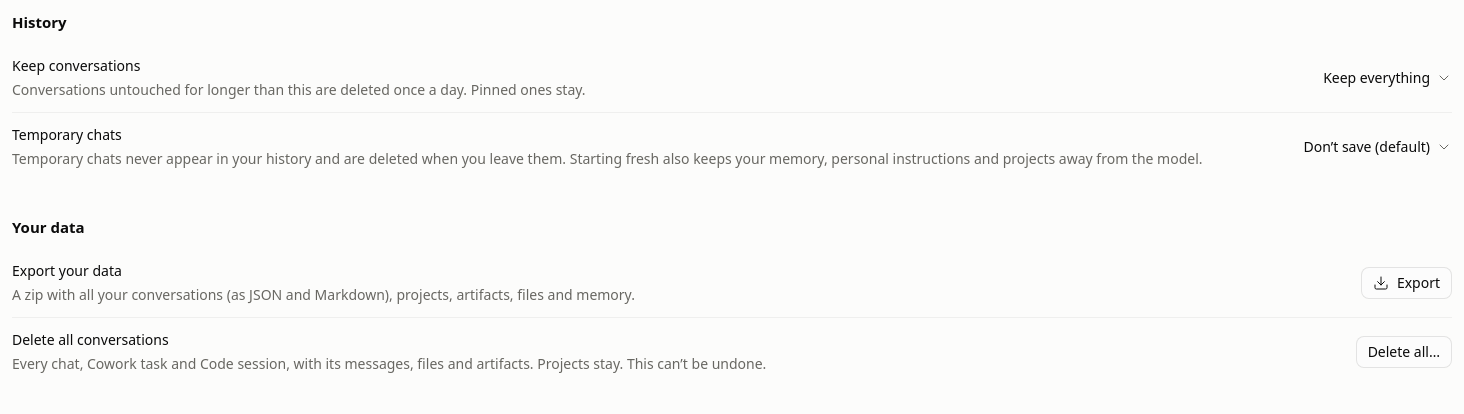
Test: Privacy page › shows why the export failed
This screenshot has width=1464, height=414.
Click the button named "Export" in the row of "Export your data" at x=1406, y=283, box [1361,267,1452,299]
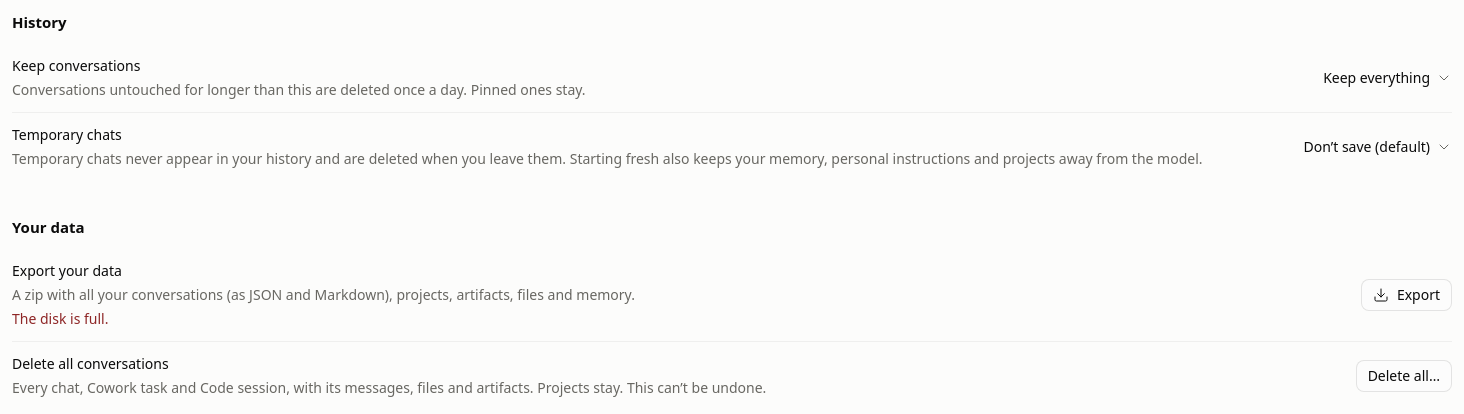
Result: the message reads "The disk is full." at [12,309,108,328]
